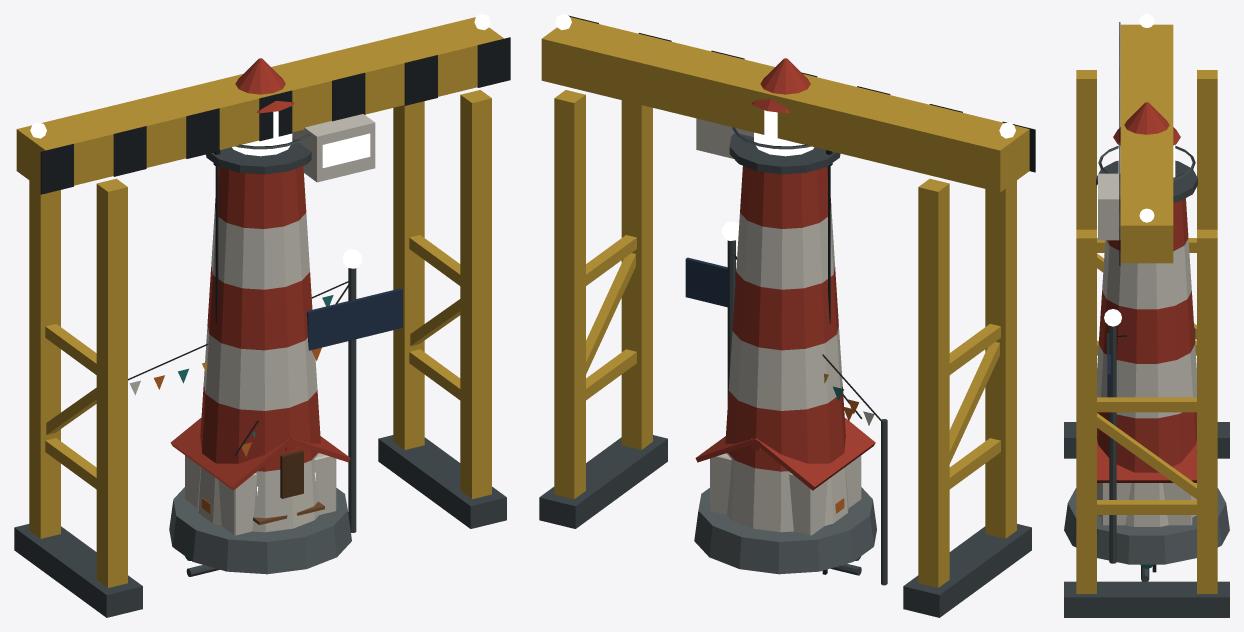
Rendered from dress_harbor.glb.
The picture shows the model from 3 angles, left to right: view 1: azimuth 30°, elevation 25°; view 2: azimuth 150°, elevation 25°; view 3: azimuth 270°, elevation 25°; orthographic projection. The views are drawn at different scales.
Visible parts, largest first — view 1: lm_gantry_m, lm_light_m, lm_booth_m; view 2: lm_gantry_m, lm_light_m, lm_booth_m; view 3: lm_gantry_m, lm_light_m, lm_booth_m.
Boxes of the visible parts, x1,y1,x2,y2 form: lm_gantry_m: [14, 14, 510, 617]; lm_light_m: [169, 58, 351, 574]; lm_booth_m: [128, 249, 402, 535]; lm_gantry_m: [539, 14, 1035, 617]; lm_light_m: [694, 58, 876, 574]; lm_booth_m: [685, 221, 887, 585]; lm_gantry_m: [1064, 14, 1229, 617]; lm_light_m: [1064, 102, 1229, 564]; lm_booth_m: [1097, 309, 1196, 563].
Size of the model in its own units: 12.9 by 13.15 by 4.4.
